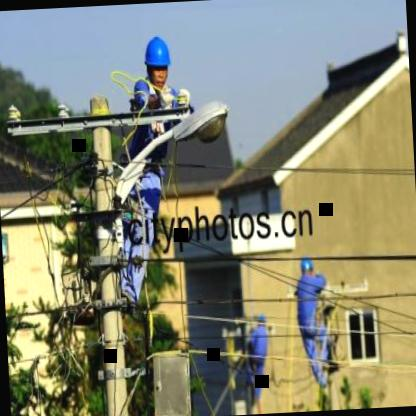helmet: (141, 30, 174, 88), (298, 250, 314, 281)
